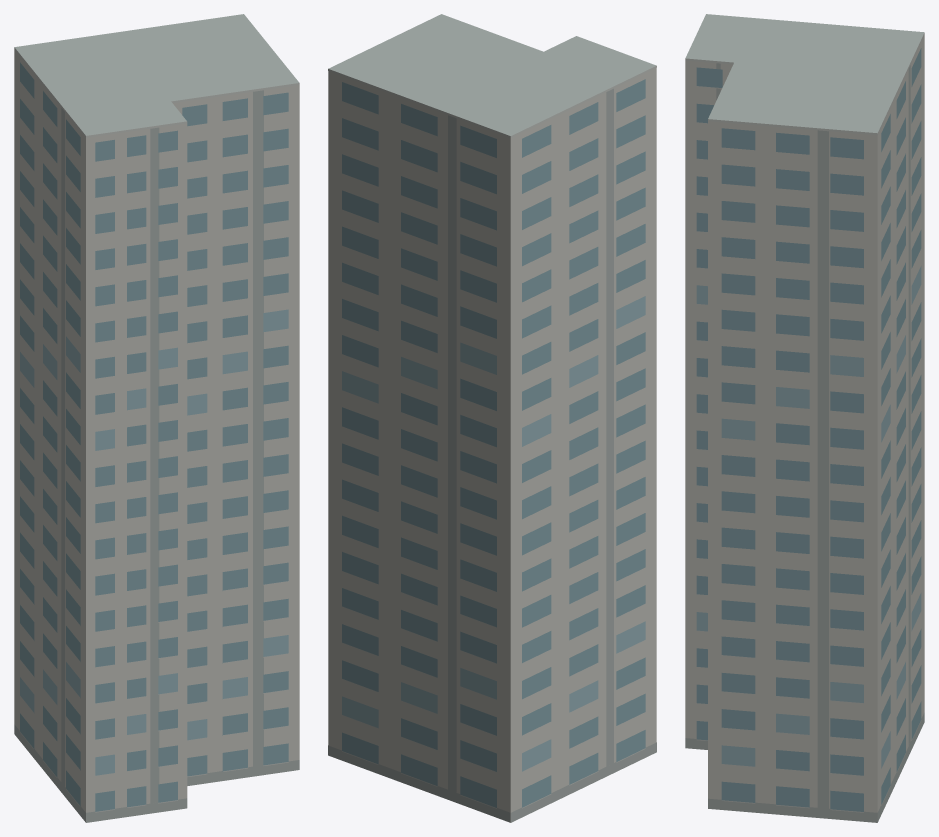
Rendered from residential-74907d94-10bd-441b-b579-ae9816bfa401.glb.
3 renders of one model, left to right at view 1: azimuth 30°, elevation 25°; view 2: azimuth 150°, elevation 25°; view 3: azimuth 270°, elevation 25°, orthographic.
Visible parts, largest first — view 1: residential-74907d94-10bd-441b-b579-ae9816bfa401.tmp; view 2: residential-74907d94-10bd-441b-b579-ae9816bfa401.tmp; view 3: residential-74907d94-10bd-441b-b579-ae9816bfa401.tmp.
Part boxes in pixels (x1=…): residential-74907d94-10bd-441b-b579-ae9816bfa401.tmp: x1=14, y1=14, x2=299, y2=822; residential-74907d94-10bd-441b-b579-ae9816bfa401.tmp: x1=328, y1=14, x2=656, y2=822; residential-74907d94-10bd-441b-b579-ae9816bfa401.tmp: x1=685, y1=14, x2=924, y2=822.
Bounding box in the file's own units: 28.55 × 77 × 24.23.
